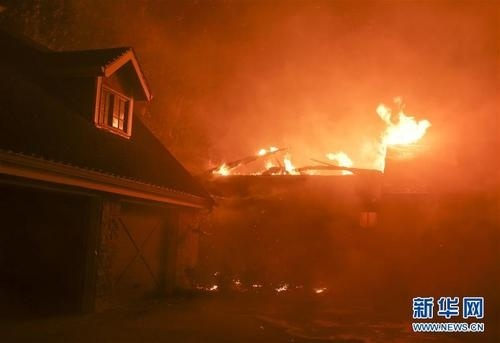fire: (212, 141, 363, 177), (367, 93, 433, 163)
